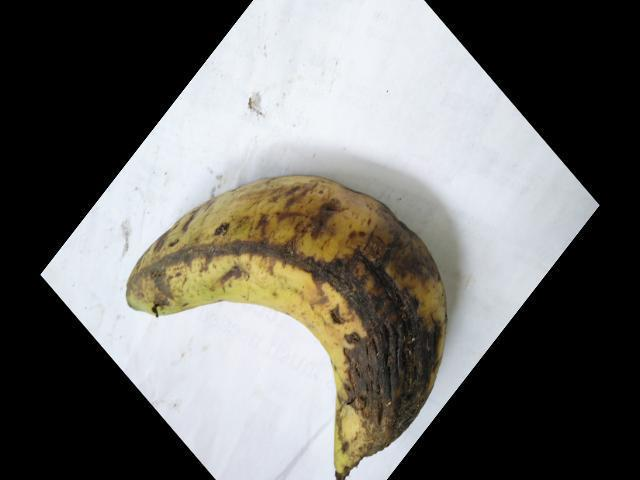rotten: (93, 169, 453, 469)
